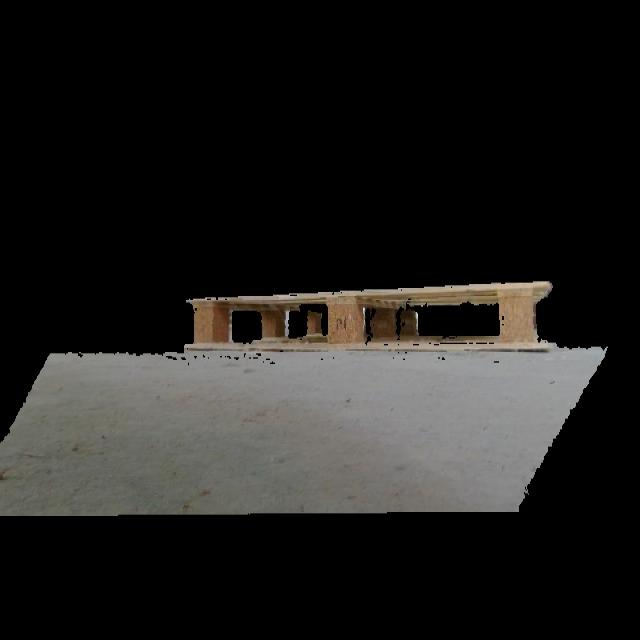block: (497, 288, 540, 342), (325, 292, 362, 346), (190, 297, 224, 346), (259, 299, 283, 340)
front: (190, 282, 550, 350)
